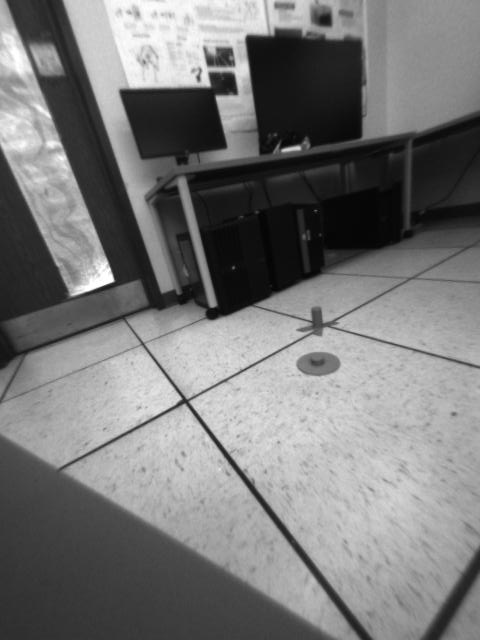X: (296, 307, 340, 337)
